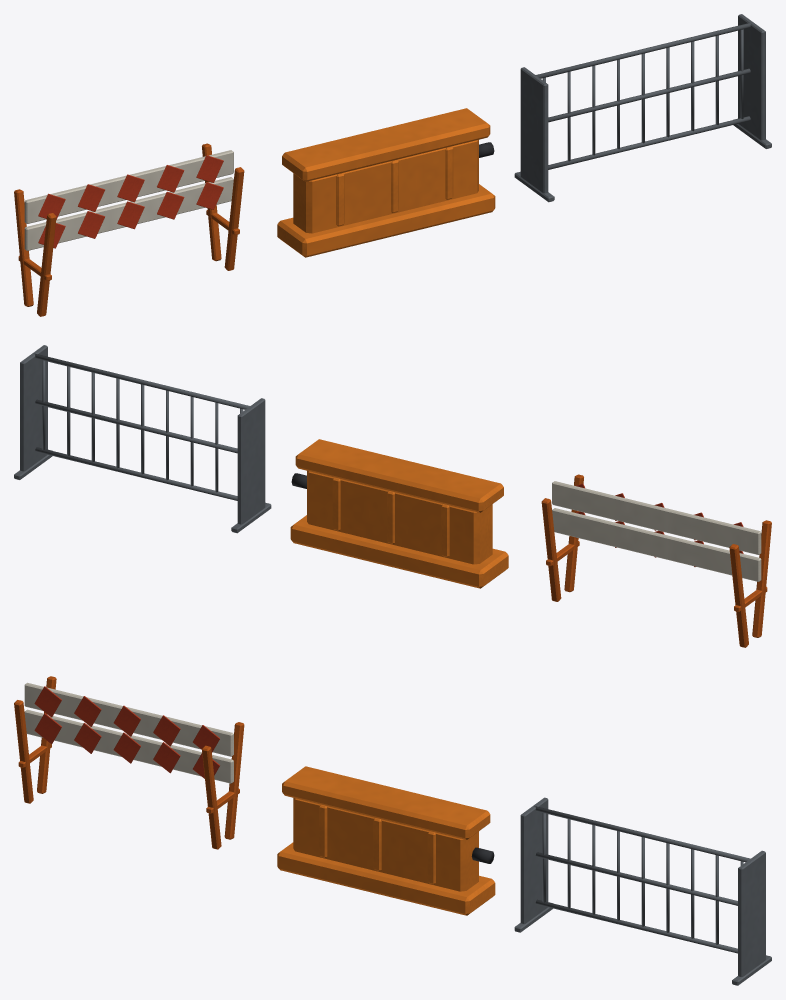
Rendered from barrier.glb.
The picture shows the model from 3 angles, top to bottom: view 1: azimuth 30°, elevation 25°; view 2: azimuth 150°, elevation 25°; view 3: azimuth 330°, elevation 25°; orthographic projection.
Parts seen in each view (by area): view 1: barrier_v2, barrier_v1, barrier_v3; view 2: barrier_v2, barrier_v1, barrier_v3; view 3: barrier_v2, barrier_v1, barrier_v3.
Part boxes in pixels (x1,y1,x2,y2): barrier_v2: (277, 108, 495, 257); barrier_v1: (14, 143, 244, 316); barrier_v3: (514, 14, 771, 202); barrier_v2: (290, 439, 508, 588); barrier_v1: (541, 474, 771, 647); barrier_v3: (14, 345, 271, 533); barrier_v2: (277, 766, 495, 915); barrier_v1: (14, 676, 244, 849); barrier_v3: (514, 797, 771, 985).
Size of the model in its own units: 7.38 by 1.12 by 0.6488.
Materials: 2 (2 with a texture image).
